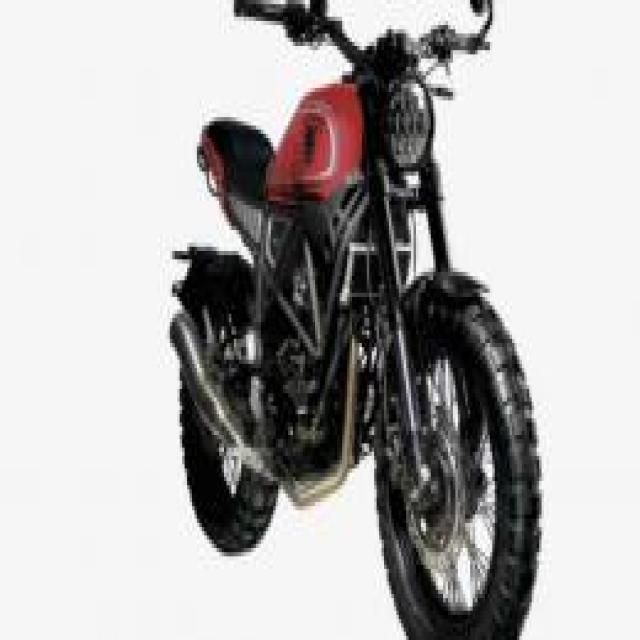MOTORCYCLE: (170, 4, 544, 637)
